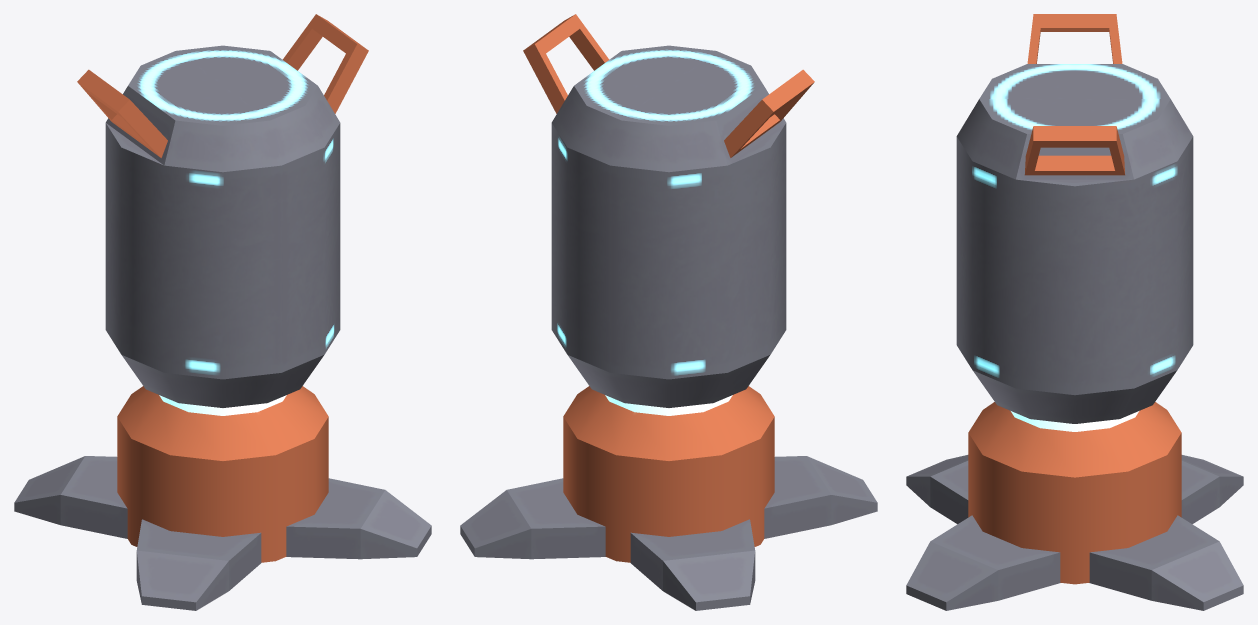
The model's file is Pfb_Soda_Instruments__5.fbx.
The picture shows the model from 3 angles, left to right: view 1: azimuth 30°, elevation 25°; view 2: azimuth 150°, elevation 25°; view 3: azimuth 270°, elevation 25°; orthographic projection.
Visible parts, largest first — view 1: MAT_Soda_Instruments; view 2: MAT_Soda_Instruments; view 3: MAT_Soda_Instruments.
Part boxes in pixels (x1,y1,x2,y2): MAT_Soda_Instruments: (14,14,431,610); MAT_Soda_Instruments: (460,14,877,610); MAT_Soda_Instruments: (906,14,1243,610).
Size of the model in its own units: 1.08 by 1.66 by 1.08.
1 material, 1 textured.
